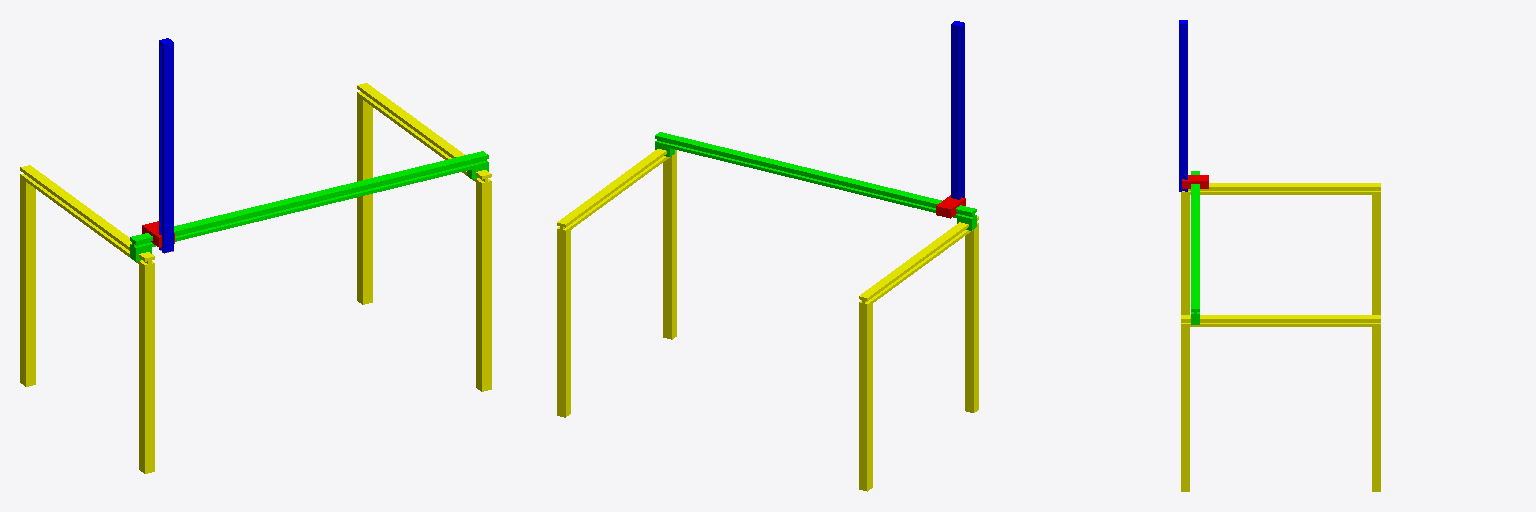
robot.urdf — Cartesian_Robot:
<?xml version="1.0" encoding="utf-8"?>
<!-- This URDF was automatically created by SolidWorks to URDF Exporter! Originally created by [author] ([email redacted]) 
     Commit Version: 1.6.0-1-g15f4949  Build Version: 1.6.7594.29634
     For more information, please see http://wiki.ros.org/sw_urdf_exporter -->
<robot
  name="Cartesian_Robot">
  <link
    name="Base">
    <inertial>
      <origin
        xyz="2.5706818405234 -3.94946047249663 2.87742454863378"
        rpy="0 0 0" />
      <mass
        value="385.500000000001" />
      <inertia
        ixx="1178.53282709144"
        ixy="2.0028446493884E-14"
        ixz="6.16522004998815E-15"
        iyy="404.13688959144"
        iyz="-7.63592569764657E-14"
        izz="775.786562500002" />
    </inertial>
    <visual>
      <origin
        xyz="0 0 0"
        rpy="0 0 0" />
      <geometry>
        <mesh
          filename="package://Cartesian_Robot/meshes/Base.STL" />
      </geometry>
      <material
        name="">
        <color
          rgba="1 1 0 1" />
      </material>
    </visual>
    <collision>
      <origin
        xyz="0 0 0"
        rpy="0 0 0" />
      <geometry>
        <mesh
          filename="package://Cartesian_Robot/meshes/Base.STL" />
      </geometry>
    </collision>
  </link>
  <link
    name="Link_1">
    <inertial>
      <origin
        xyz="-2.22044604925031E-15 0.263321167883211 0.0750000000000002"
        rpy="0 0 0" />
      <mass
        value="102.75" />
      <inertia
        ixx="0.571297901459852"
        ixy="-1.76289294775025E-14"
        ixz="-2.70564266815804E-15"
        iyy="284.56203125"
        iyz="5.74642161418218E-17"
        izz="284.793016651459" />
    </inertial>
    <visual>
      <origin
        xyz="0 0 0"
        rpy="0 0 0" />
      <geometry>
        <mesh
          filename="package://Cartesian_Robot/meshes/Link_1.STL" />
      </geometry>
      <material
        name="">
        <color
          rgba="0 1 0 1" />
      </material>
    </visual>
    <collision>
      <origin
        xyz="0 0 0"
        rpy="0 0 0" />
      <geometry>
        <mesh
          filename="package://Cartesian_Robot/meshes/Link_1.STL" />
      </geometry>
    </collision>
  </link>
  <joint
    name="J1"
    type="prismatic">
    <origin
      xyz="2.5706818405234 -5.28710486307985 3.90553738910071"
      rpy="1.5707963267949 0 0" />
    <parent
      link="Base" />
    <child
      link="Link_1" />
    <axis
      xyz="0 0 1" />
    <limit
      lower="0"
      upper="0"
      effort="0"
      velocity="0" />
  </joint>
  <link
    name="Link_2">
    <inertial>
      <origin
        xyz="0.12499999999985 0.00242718446602019 0.0189320388349534"
        rpy="0 0 0" />
      <mass
        value="12.875" />
      <inertia
        ixx="0.26254904935275"
        ixy="2.68904390916601E-18"
        ixz="-1.07966052367979E-15"
        iyy="0.308562398867313"
        iyz="0.00059162621359225"
        izz="0.0993512338187702" />
    </inertial>
    <visual>
      <origin
        xyz="0 0 0"
        rpy="0 0 0" />
      <geometry>
        <mesh
          filename="package://Cartesian_Robot/meshes/Link_2.STL" />
      </geometry>
      <material
        name="">
        <color
          rgba="1 0 0 1" />
      </material>
    </visual>
    <collision>
      <origin
        xyz="0 0 0"
        rpy="0 0 0" />
      <geometry>
        <mesh
          filename="package://Cartesian_Robot/meshes/Link_2.STL" />
      </geometry>
    </collision>
  </link>
  <joint
    name="J2"
    type="prismatic">
    <origin
      xyz="-2.17867598218295 0.324999999999999 0.0749999999999984"
      rpy="3.14159265358979 0 3.14159265358979" />
    <parent
      link="Link_1" />
    <child
      link="Link_2" />
    <axis
      xyz="1 0 0" />
    <limit
      lower="0"
      upper="0"
      effort="0"
      velocity="0" />
  </joint>
  <link
    name="Link_3">
    <inertial>
      <origin
        xyz="0.199999999999964 -1.38987303629096 -0.124999999999946"
        rpy="0 0 0" />
      <mass
        value="53.6124336293858" />
      <inertia
        ixx="41.9953815671922"
        ixy="-2.91912097157699E-13"
        ixz="3.98691129083209E-16"
        iyy="0.213530289828399"
        iyz="-2.92191849822614E-13"
        izz="42.0328815671922" />
    </inertial>
    <visual>
      <origin
        xyz="0 0 0"
        rpy="0 0 0" />
      <geometry>
        <mesh
          filename="package://Cartesian_Robot/meshes/Link_3.STL" />
      </geometry>
      <material
        name="">
        <color
          rgba="0 0 1 1" />
      </material>
    </visual>
    <collision>
      <origin
        xyz="0 0 0"
        rpy="0 0 0" />
      <geometry>
        <mesh
          filename="package://Cartesian_Robot/meshes/Link_3.STL" />
      </geometry>
    </collision>
  </link>
  <joint
    name="J3"
    type="prismatic">
    <origin
      xyz="0 0 0"
      rpy="3.14159265358979 1.5707963267949 0" />
    <parent
      link="Link_2" />
    <child
      link="Link_3" />
    <axis
      xyz="0 1 0" />
    <limit
      lower="0"
      upper="0"
      effort="0"
      velocity="0" />
  </joint>
  <link
    name="End_Effector">
    <inertial>
      <origin
        xyz="0 0.00500000000012246 1.1385337117531E-13"
        rpy="0 0 0" />
      <mass
        value="0.162433629385637" />
      <inertia
        ixx="0.000256081861110283"
        ixy="-4.43721793868471E-22"
        ixz="-4.88036561406277E-20"
        iyy="0.000634456495064134"
        iyz="-3.05913944980143E-22"
        izz="0.000381081861110278" />
    </inertial>
    <visual>
      <origin
        xyz="0 0 0"
        rpy="0 0 0" />
      <geometry>
        <mesh
          filename="package://Cartesian_Robot/meshes/End_Effector.STL" />
      </geometry>
      <material
        name="">
        <color
          rgba="1 0.501960784313725 1 1" />
      </material>
    </visual>
    <collision>
      <origin
        xyz="0 0 0"
        rpy="0 0 0" />
      <geometry>
        <mesh
          filename="package://Cartesian_Robot/meshes/End_Effector.STL" />
      </geometry>
    </collision>
  </link>
  <joint
    name="F1"
    type="fixed">
    <origin
      xyz="0.2 0.152477886930783 -0.124999999999944"
      rpy="0 0 3.14159265358979" />
    <parent
      link="Link_3" />
    <child
      link="End_Effector" />
    <axis
      xyz="0 0 0" />
  </joint>
</robot>

--- Render facts (derived) ---
Views: 3 orthographic renders of the robot side by side, from view 1: azimuth 30°, elevation 25°; view 2: azimuth 150°, elevation 25°; view 3: azimuth 270°, elevation 25°.
Robot: Cartesian_Robot — 5 links, 4 joints (3 prismatic, 1 fixed); root link Base; default pose: all joints at 0.
Visible links, largest first — view 1: Base, Link_1, Link_3; view 2: Base, Link_1, Link_3; view 3: Base, Link_3, Link_1.
Link boxes in pixels (x1=…): Base: x1=20, y1=83, x2=491, y2=473; Link_1: x1=130, y1=151, x2=488, y2=261; Link_3: x1=159, y1=38, x2=173, y2=252; Base: x1=557, y1=149, x2=978, y2=491; Link_1: x1=655, y1=132, x2=976, y2=230; Link_3: x1=951, y1=21, x2=964, y2=199; Base: x1=1181, y1=183, x2=1380, y2=491; Link_3: x1=1179, y1=20, x2=1187, y2=191; Link_1: x1=1191, y1=171, x2=1199, y2=324.
Bounding box of the posed robot: 5.4 × 3.34 × 6.23 m (x, y, z).
Meshes: 5 distinct files referenced, 5 mesh visuals loaded (5 binary STL).